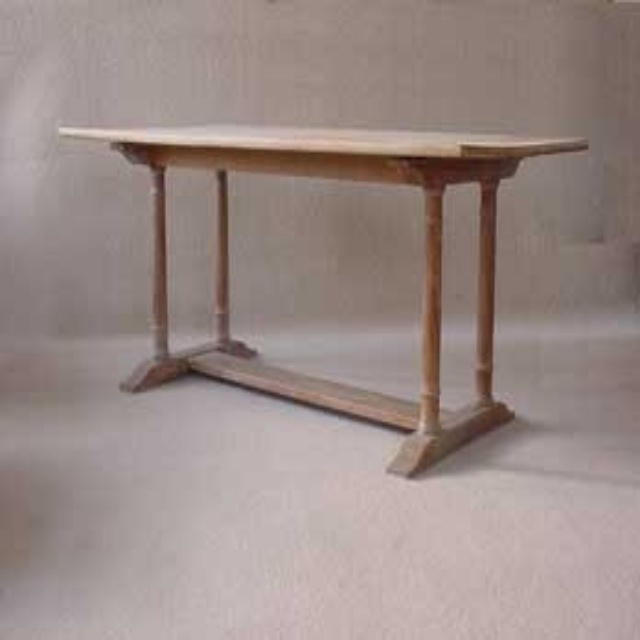obstacle: (59, 125, 587, 476)
